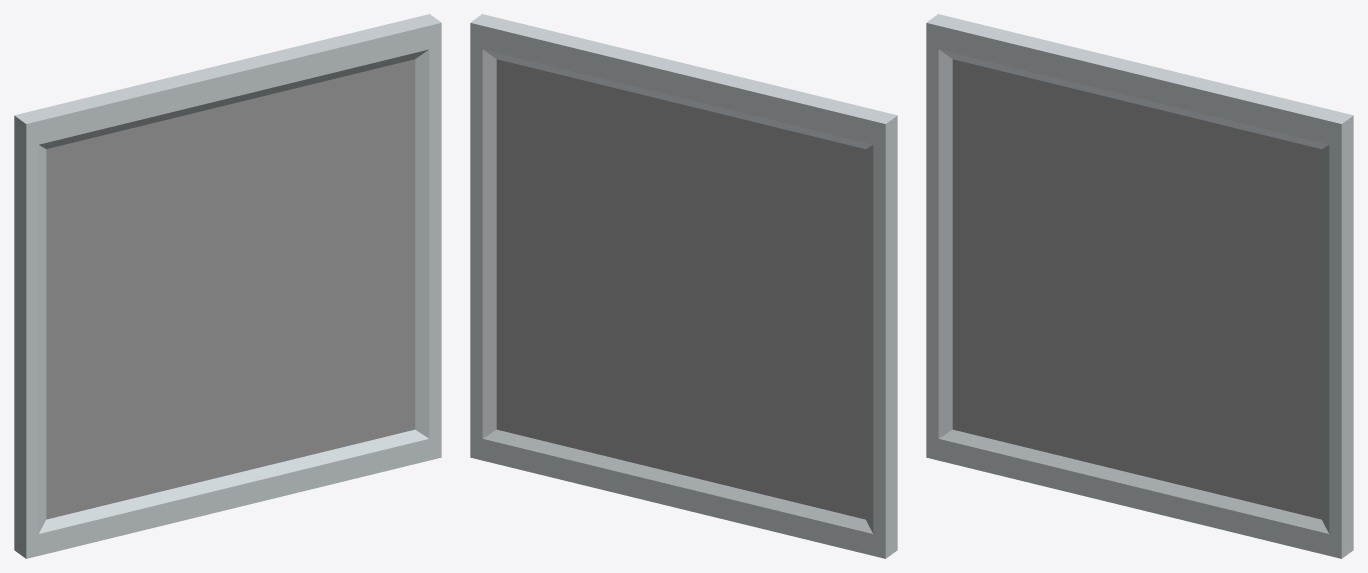
Rendered from Wall03.fbx.
The picture shows the model from 3 angles, left to right: view 1: azimuth 30°, elevation 25°; view 2: azimuth 150°, elevation 25°; view 3: azimuth 330°, elevation 25°; orthographic projection.
Parts seen in each view (by area): view 1: Wall03; view 2: Wall03; view 3: Wall03.
Part boxes in pixels (x1,y1,x2,y2): Wall03: (14,14,441,558); Wall03: (470,14,897,558); Wall03: (926,14,1353,558).
Bounding box in the file's own units: 4 × 4 × 0.2.
